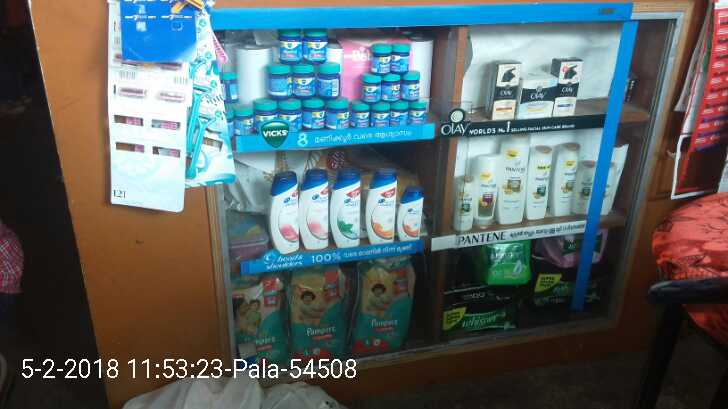vicks: (218, 20, 429, 124)
